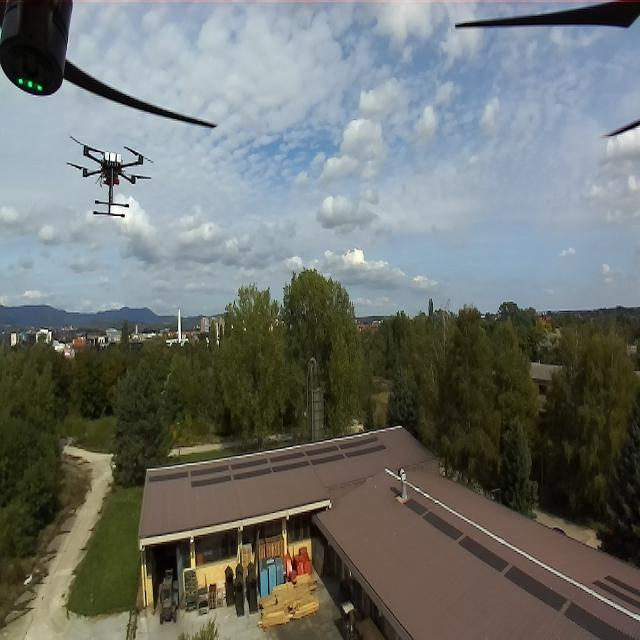UAV: (67, 137, 157, 221)
